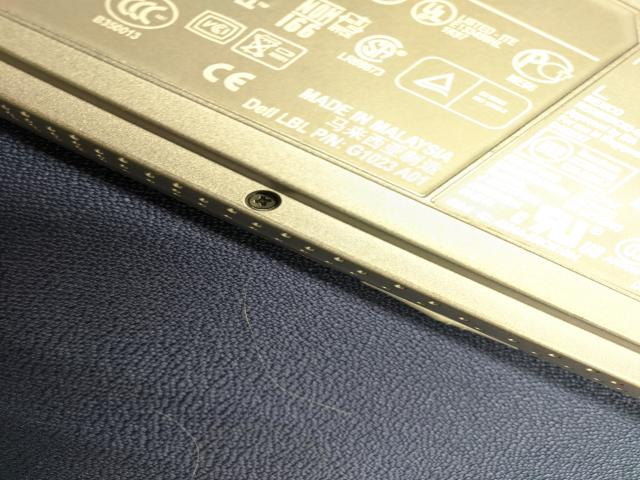CRS: (247, 191, 277, 210)
